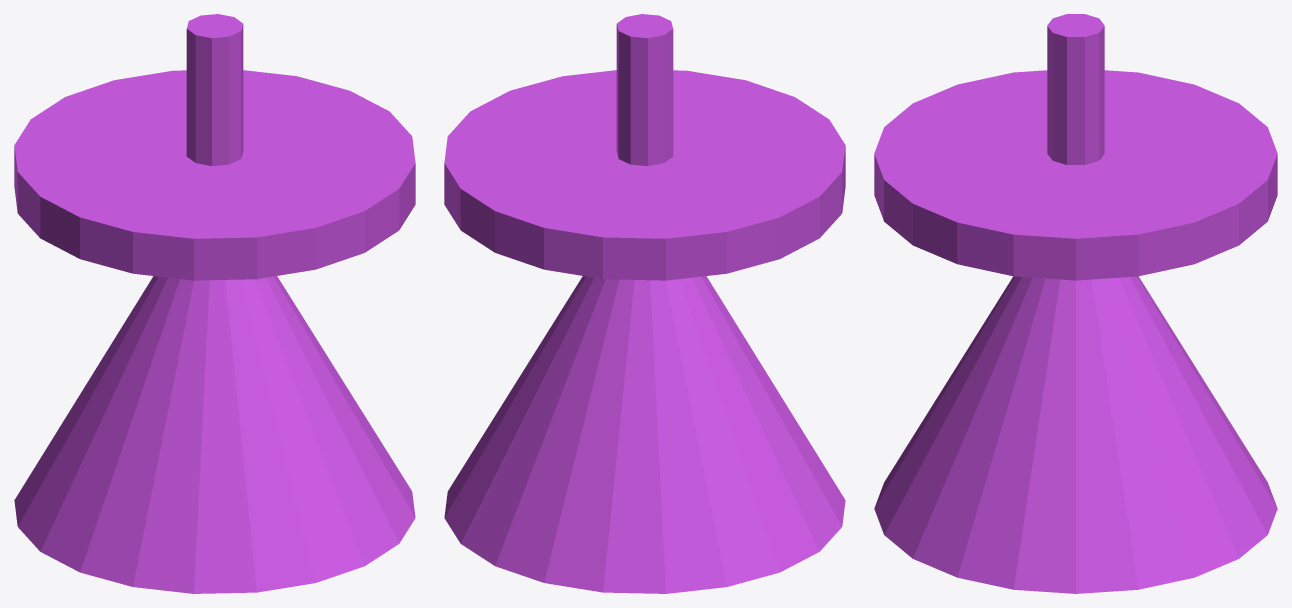
File: Spinning Top.fbx
3 renders of one model, left to right at view 1: azimuth 30°, elevation 25°; view 2: azimuth 150°, elevation 25°; view 3: azimuth 270°, elevation 25°, orthographic.
Visible parts, largest first — view 1: spinning_top; view 2: spinning_top; view 3: spinning_top.
Boxes of the visible parts, bbox=[...] form: spinning_top: bbox=[14, 14, 415, 593]; spinning_top: bbox=[444, 14, 845, 593]; spinning_top: bbox=[874, 14, 1277, 593].
Size of the model in its own units: 70 by 102 by 70.
